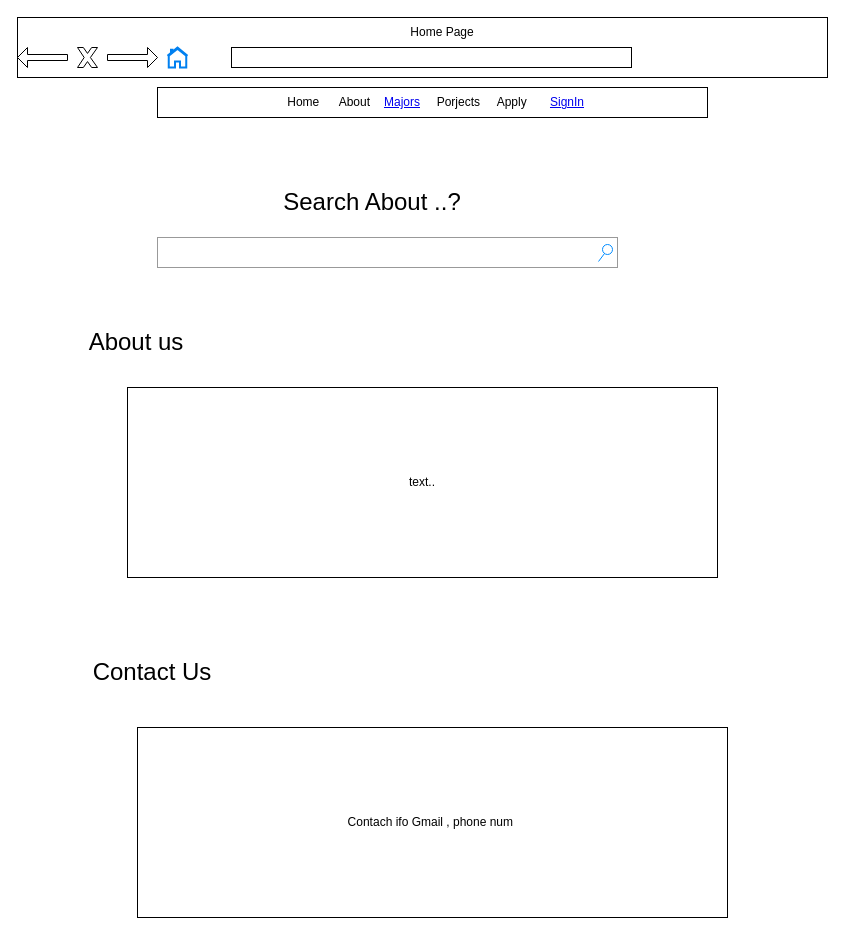
Some shapes in this 845 by 935 pixel diagram are drawn without their labels. Each missing label, with the centre of its shape:
https://university/Home: (x=431, y=57)
Search: (x=387, y=252)
